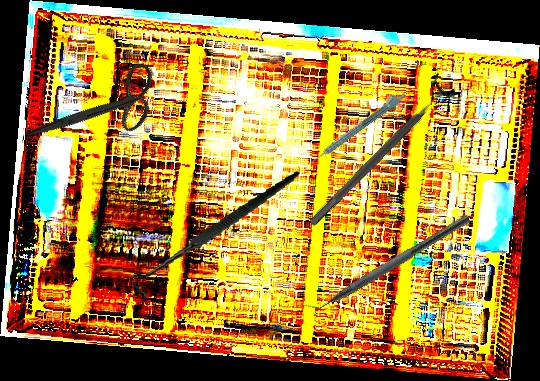Chopper: (300, 203, 471, 321)
Fixation Ring: (300, 71, 459, 235)
Handpiece: (306, 87, 408, 166)
Hook Surgical: (120, 170, 312, 302)
Iris Scissors: (25, 32, 172, 187)
